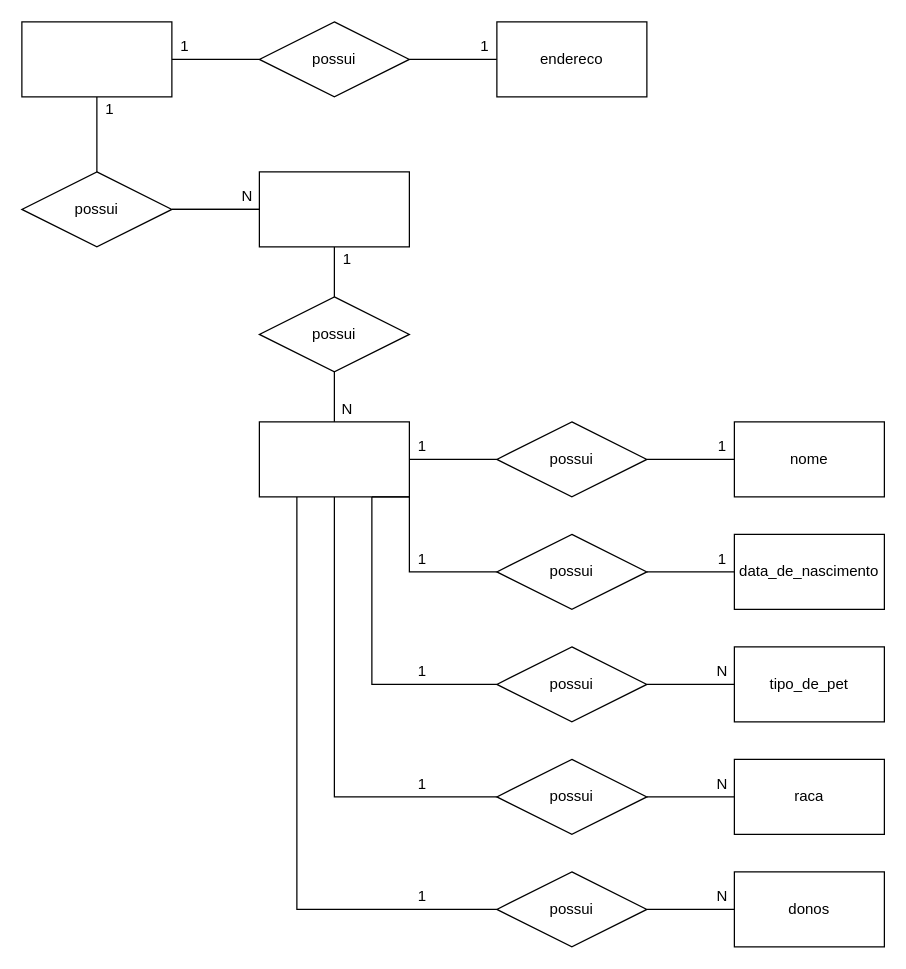
The diagram is 906 pixels wide and 969 high, and some of its shapes have lost their labels. The centre of each missing label's shape, as x and y in pixels:
"clinica" goes at (x=96, y=59).
"pets" goes at (x=333, y=459).
"veterinario" goes at (x=333, y=209).
